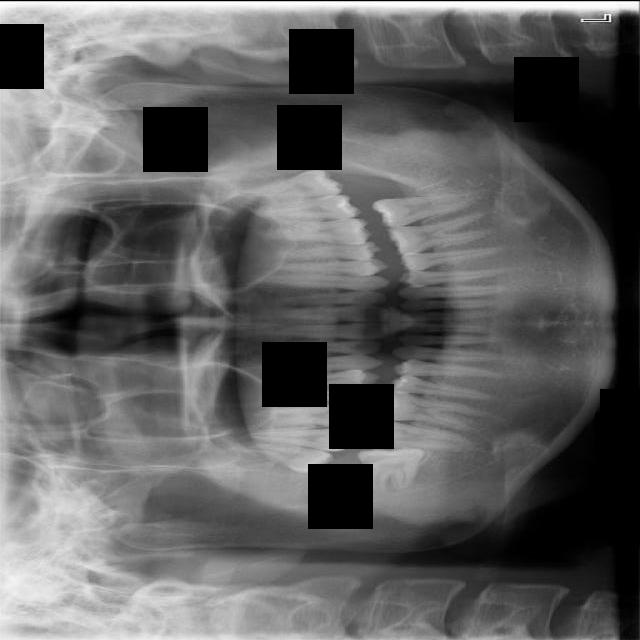3M ESPE Implant: (234, 437, 335, 477)
52: (371, 186, 421, 234), (366, 415, 410, 453), (378, 387, 422, 424), (309, 191, 362, 221), (315, 399, 366, 429), (306, 427, 355, 451), (390, 374, 427, 393)
BioHorizons Implant: (253, 192, 361, 222)
BioLife Implant: (226, 162, 345, 220)
Blue Sky Bio Implant: (372, 189, 480, 230)
Caries: (233, 427, 356, 450)
Implant: (367, 417, 465, 451)
Keystone Dental Implant: (358, 442, 429, 493)
